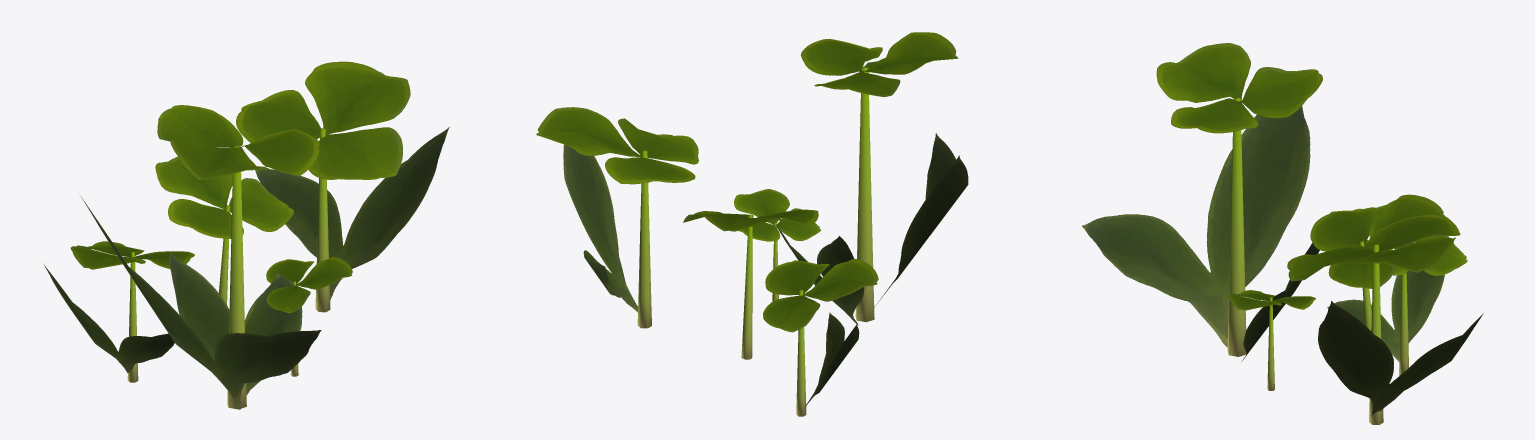
3 renders of one model, left to right at view 1: azimuth 30°, elevation 25°; view 2: azimuth 150°, elevation 25°; view 3: azimuth 270°, elevation 25°, orthographic. The views are drawn at different scales.
Visible parts, largest first — view 1: Plante_01; view 2: Plante_01; view 3: Plante_01.
Part boxes in pixels (x1,y1,x2,y2): Plante_01: (43,61,449,409); Plante_01: (536,32,968,416); Plante_01: (1082,43,1483,424).
Size of the model in its own units: 104 by 74.27 by 98.98.
